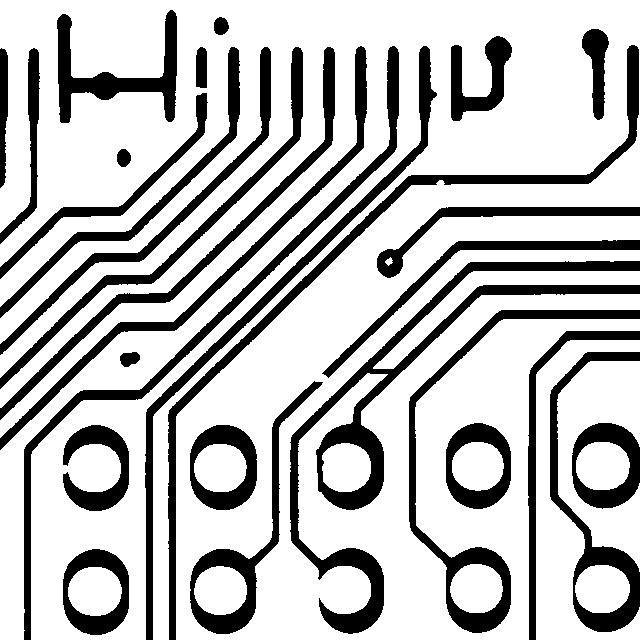copper: (110, 342, 149, 376)
mousebite: (426, 170, 454, 196)
open: (180, 76, 218, 105), (304, 363, 338, 391), (50, 455, 82, 483)
pin-hole: (375, 247, 402, 275)
short: (306, 439, 333, 501), (353, 358, 407, 383)
spur: (417, 79, 446, 110)
